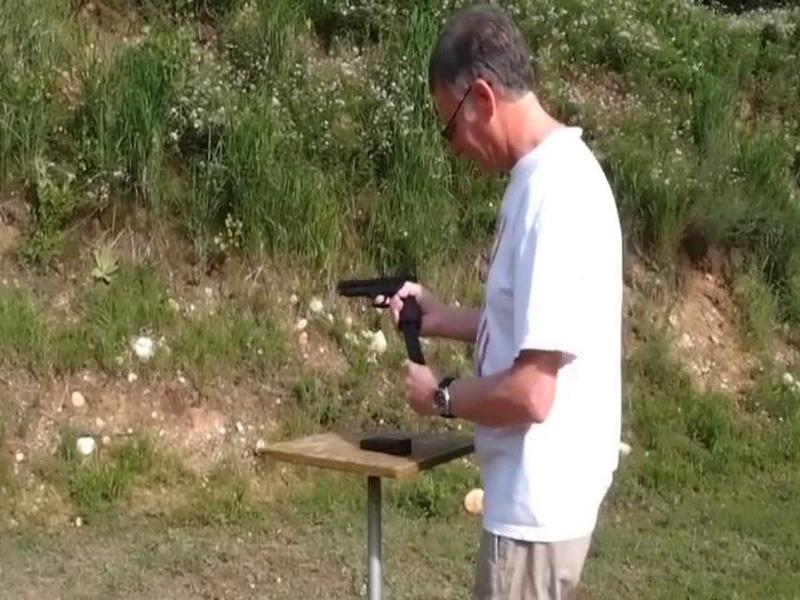Pistola: (346, 261, 437, 344)
